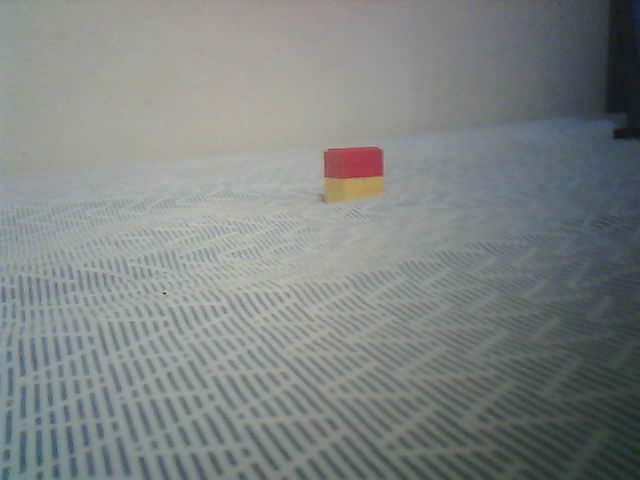lego: (321, 146, 385, 202)
